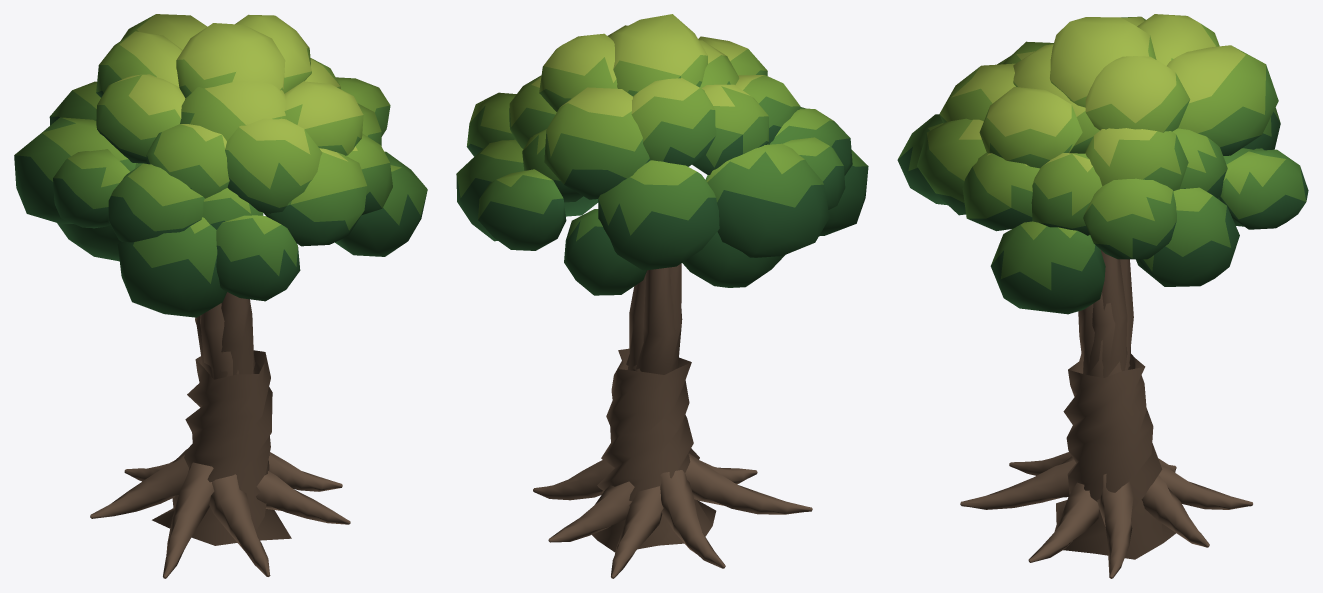
Rendered from AncientOakA_LOD.glb.
3 views of the same model, side by side, from view 1: azimuth 30°, elevation 25°; view 2: azimuth 150°, elevation 25°; view 3: azimuth 270°, elevation 25° (orthographic). The views are drawn at different scales.
Visible parts, largest first — view 1: AncientOakA_LOD.bark, AncientOakA_LOD.leafLight, AncientOakA_LOD.leafMid, AncientOakA_LOD.leafDark, AncientOakA_LOD.leafGold; view 2: AncientOakA_LOD.bark, AncientOakA_LOD.leafDark, AncientOakA_LOD.leafMid, AncientOakA_LOD.leafLight, AncientOakA_LOD.leafGold; view 3: AncientOakA_LOD.bark, AncientOakA_LOD.leafLight, AncientOakA_LOD.leafMid, AncientOakA_LOD.leafGold, AncientOakA_LOD.leafDark.
Boxes of the visible parts, x1,y1,x2,y2 form: AncientOakA_LOD.bark: (90, 292, 350, 578); AncientOakA_LOD.leafLight: (42, 15, 401, 234); AncientOakA_LOD.leafMid: (14, 65, 427, 283); AncientOakA_LOD.leafDark: (14, 91, 426, 317); AncientOakA_LOD.leafGold: (114, 14, 363, 161); AncientOakA_LOD.bark: (533, 263, 812, 578); AncientOakA_LOD.leafDark: (456, 125, 868, 295); AncientOakA_LOD.leafMid: (456, 70, 868, 241); AncientOakA_LOD.leafLight: (469, 49, 833, 186); AncientOakA_LOD.leafGold: (531, 14, 763, 116); AncientOakA_LOD.bark: (960, 250, 1252, 578); AncientOakA_LOD.leafLight: (927, 16, 1285, 239); AncientOakA_LOD.leafMid: (898, 64, 1306, 290); AncientOakA_LOD.leafGold: (951, 14, 1245, 172); AncientOakA_LOD.leafDark: (897, 111, 1308, 314).
Bounding box in the file's own units: 64.79 × 87.07 × 63.59.
